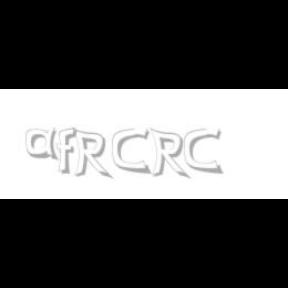C: (112, 128, 150, 174), (184, 128, 222, 174)
R: (72, 128, 110, 180), (149, 128, 187, 180)
a: (26, 128, 62, 160)
f: (57, 128, 81, 174)
